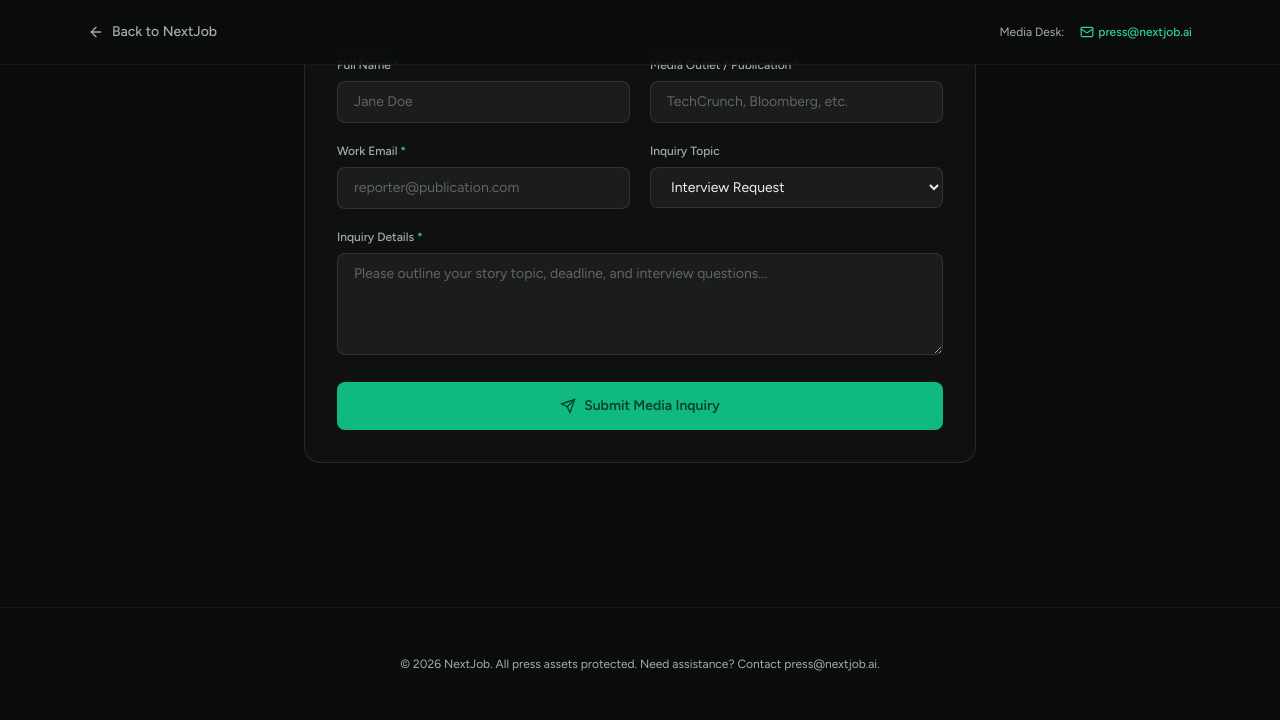
Test: PressKitPage (T-104, FR-GROW-07) › shows error alert if required form fields are missing
This screenshot has width=1280, height=720.
(page scrolled)
Click the button "Submit Media Inquiry": click(640, 406) x1=337 y1=382 x2=943 y2=430
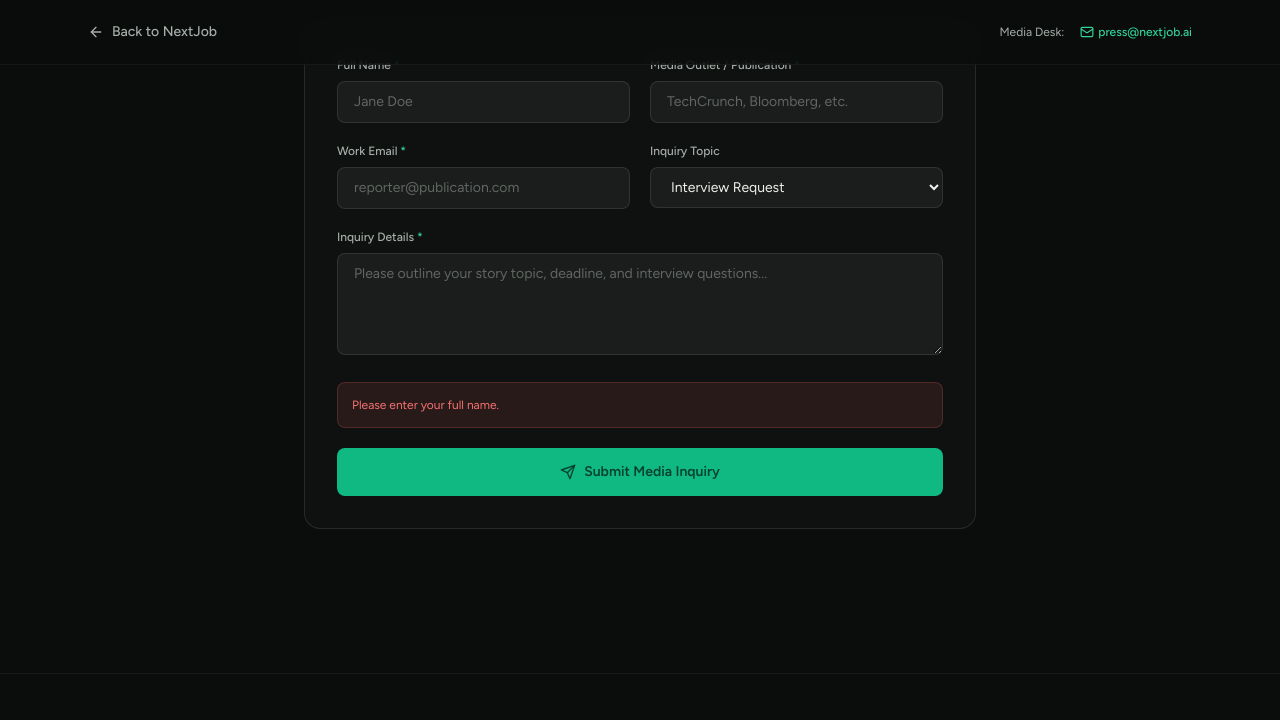
Expected: the message reads "Please enter your full name.", x1=352 y1=398 x2=499 y2=412
